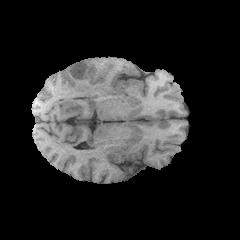glioma: (61, 61, 108, 101)
